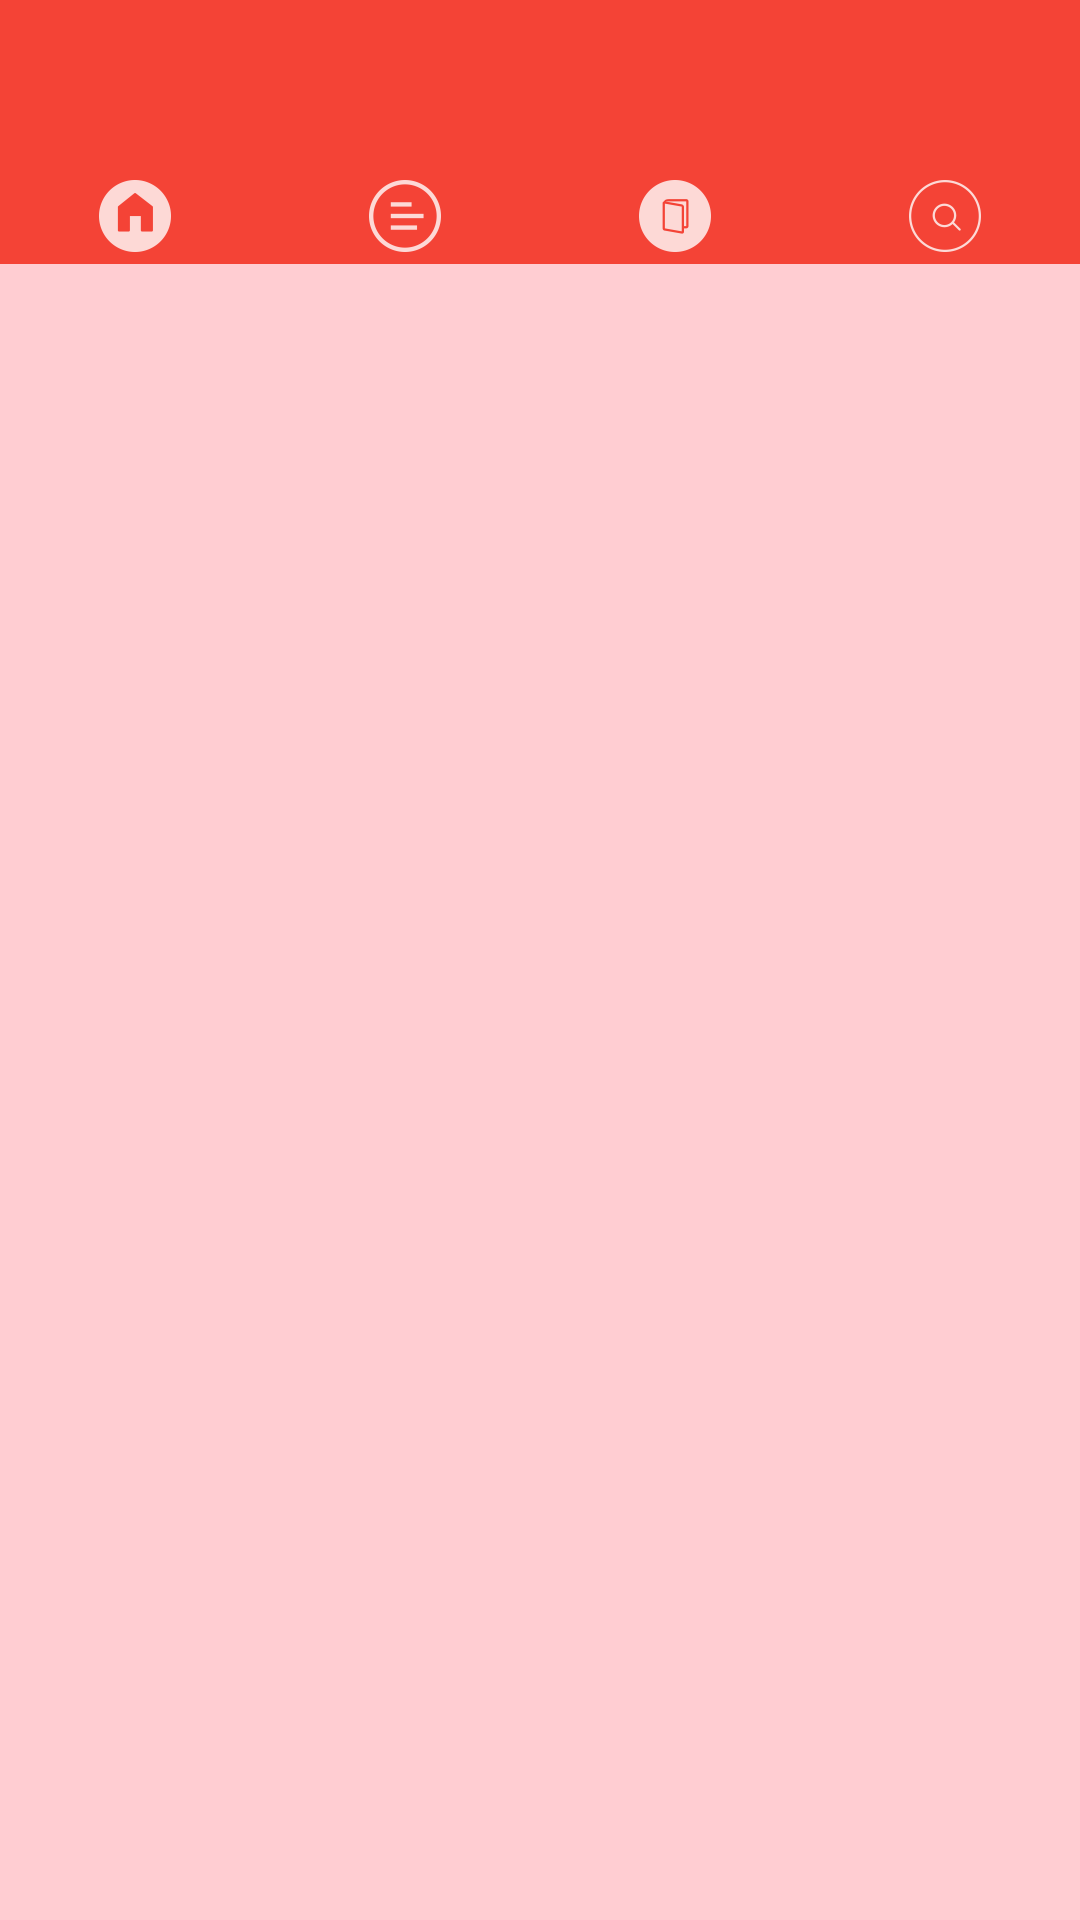

Point at icon controls on the screen. Image size 1080px x 1920px, points as (x,y).
homeround: (135,216)
roundsearch: (945,216)
